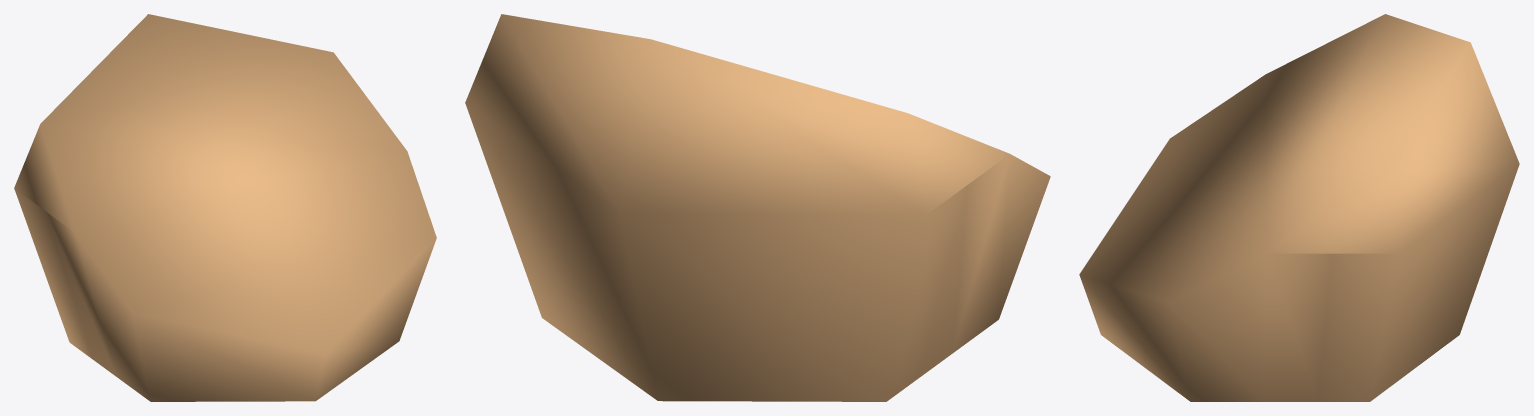
Rendered from tanaman_jamur_potong_batang_new.fbx.
3 renders of one model, left to right at view 1: azimuth 30°, elevation 25°; view 2: azimuth 150°, elevation 25°; view 3: azimuth 270°, elevation 25°, orthographic. The views are drawn at different scales.
Parts seen in each view (by area): view 1: tamanan_jamur.002; view 2: tamanan_jamur.002; view 3: tamanan_jamur.002.
Part boxes in pixels (box(x1,y1,x2,y2)): tamanan_jamur.002: box(14, 14, 436, 401); tamanan_jamur.002: box(465, 14, 1050, 401); tamanan_jamur.002: box(1079, 14, 1519, 401).
Size of the model in its own units: 10.21 by 7.76 by 10.59.
